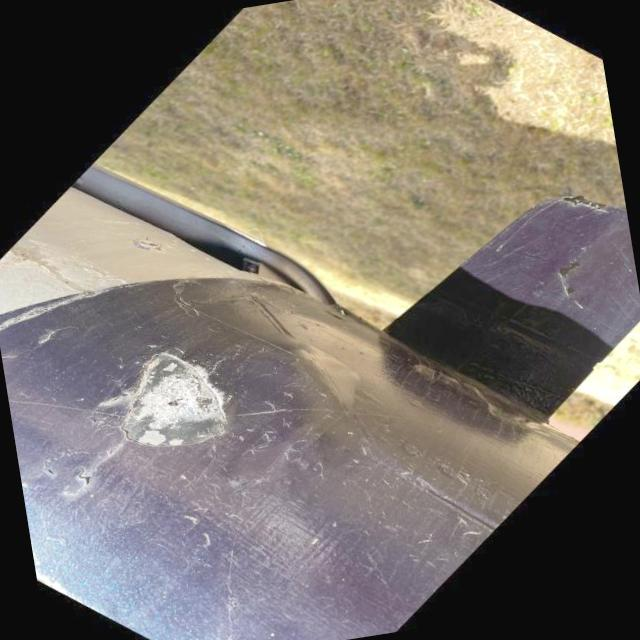crack: (31, 452, 100, 498)
dent: (104, 342, 245, 464)
